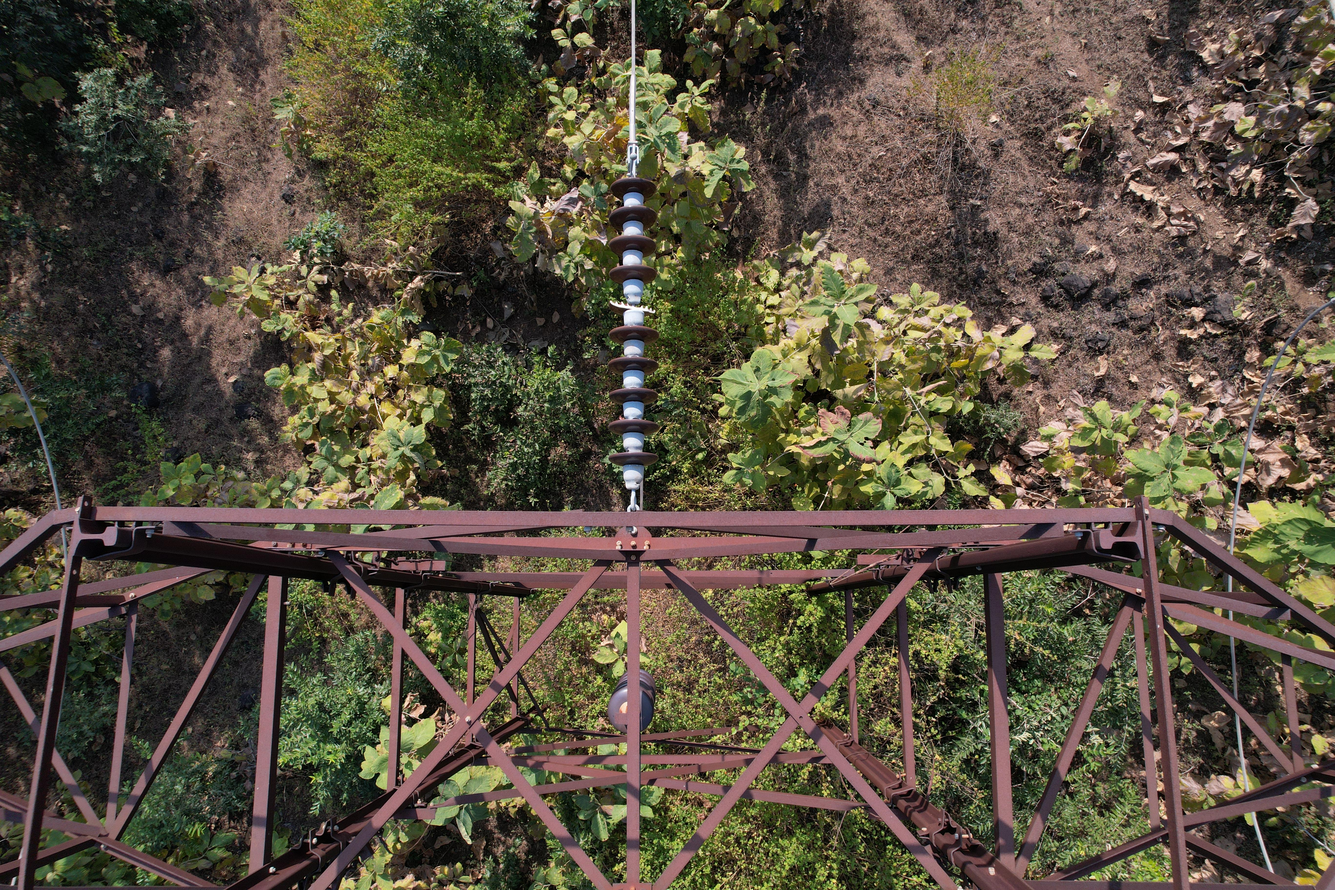broken_insulator: (605, 293, 659, 318)
